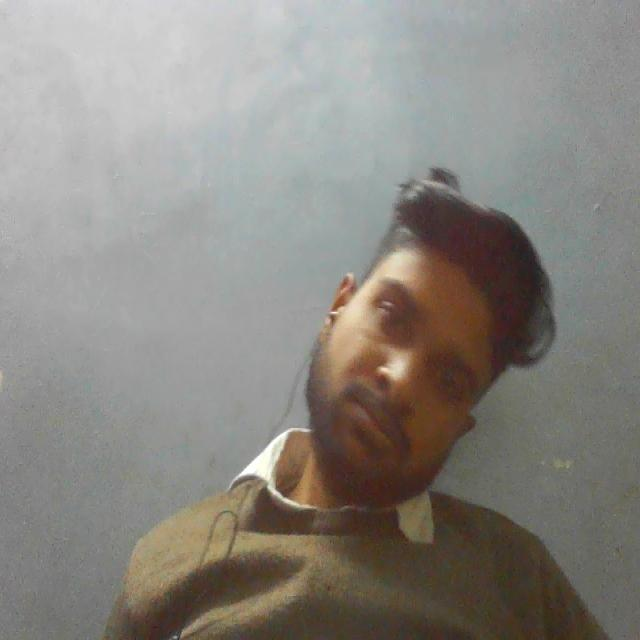real: (317, 178, 488, 502)
